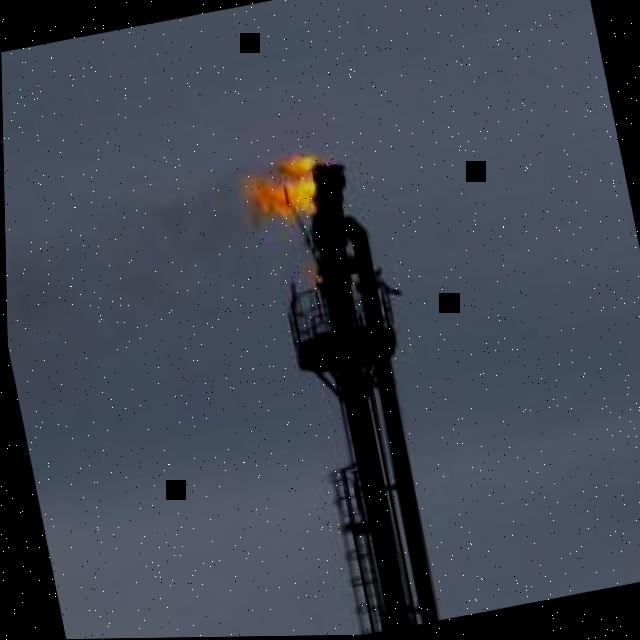fire: (242, 151, 332, 223), (308, 270, 322, 286)
smoke: (4, 157, 296, 340)
